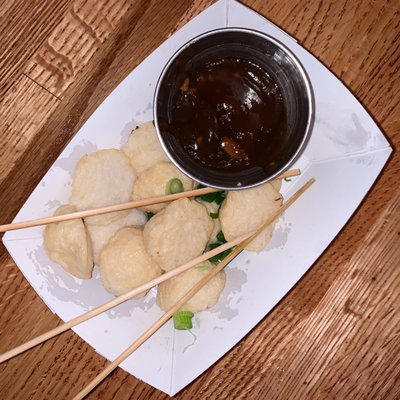sushi: (153, 29, 316, 191)
